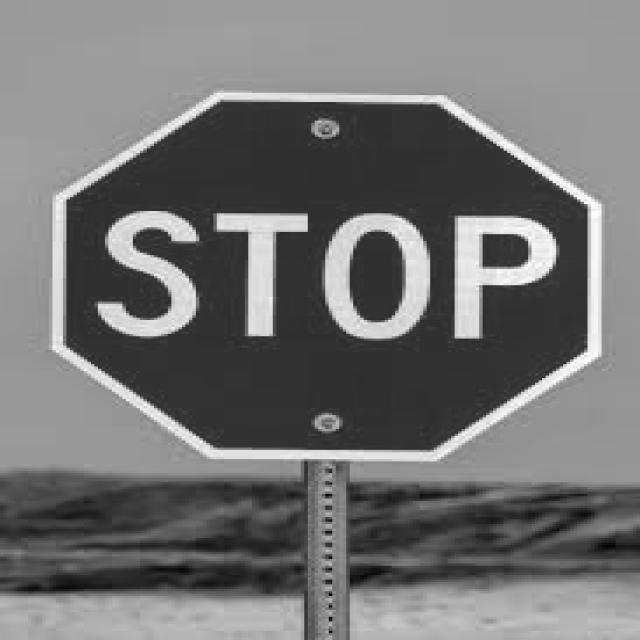stop sign: (59, 91, 600, 464)
